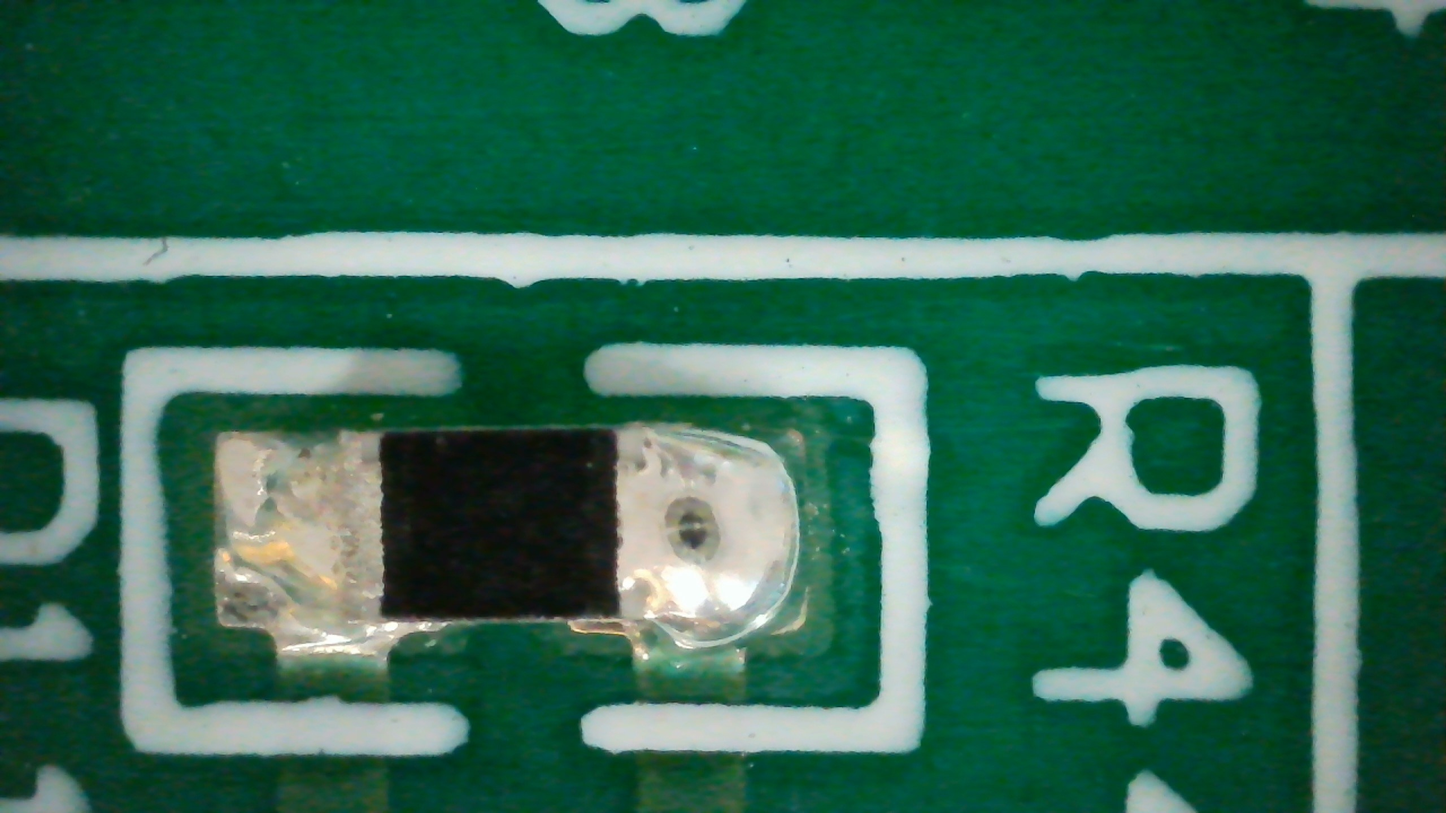OK: (214, 423, 797, 664)
